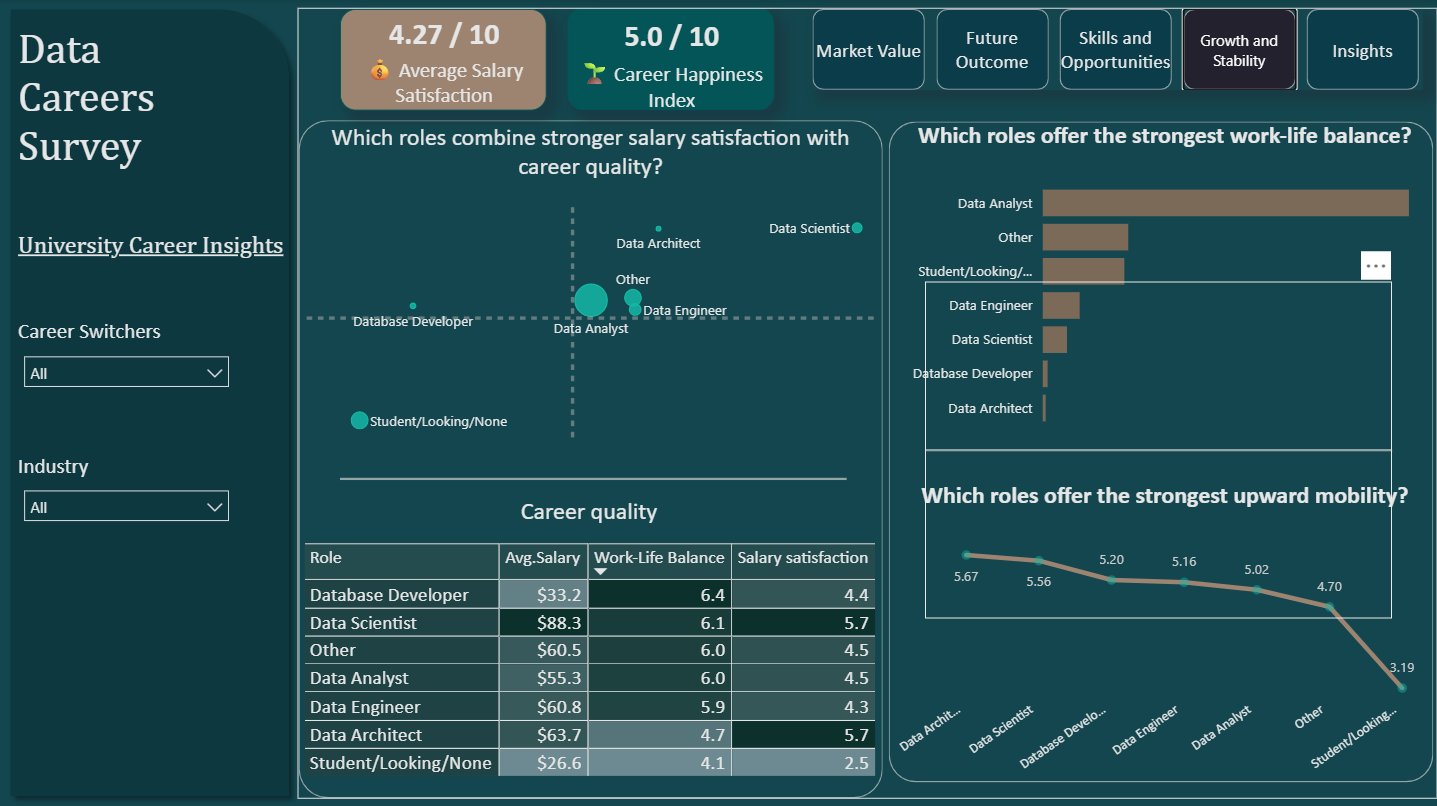

The page's visual inventory and layout, read from the dashboard file:
{"tool":"powerbi","page":{"name":"Page 1","canvas":[1280,720],"ordinal":0},"visuals":[{"type":"shape","box":[0,0,266.6,719],"z":0,"group":"g1"},{"type":"shape","box":[791.3,108.9,485,588.4],"z":0,"group":"g2"},{"type":"group","id":"g1","title":"panel","box":[0,0,283.5,719],"z":1000},{"type":"shape","box":[266.4,108.8,520.1,603.7],"z":1000,"group":"g2"},{"type":"slicer","title":"Career Switchers","fields":{"Values":["Data Professional Survey.Q2 - Did you switch careers into Data?"]},"box":[10.9,283.5,202.5,76.5],"z":1000,"group":"g1"},{"type":"barChart","title":"Which roles offer the strongest work-life balance?","fields":{"Category":["Data Professional Survey.Q1 - Which Title Best Fits your Current Role?.1"],"Y":["CountNonNull(Data Professional Survey.Q6 - How Happy are you in your Current Position with the following? (Work/Life Balance))"]},"box":[795.1,108.6,485,285.9],"z":2000,"group":"g2"},{"type":"textbox","box":[10.9,202.4,272.7,40.4],"z":2000,"group":"g1"},{"type":"scatterChart","title":"Which roles combine stronger salary satisfaction with career quality?","fields":{"Y":["Avg(Data Professional Survey.Q6 - How Happy are you in your Current Position with the following? (Salary))"],"Size":["CountNonNull(Data Professional Survey.Unique ID)"],"Category":["Data Professional Survey.Q1 - Which Title Best Fits your Current Role?.1"],"X":["Avg(Data Professional Survey.average salary)"]},"box":[267.8,110.2,515.2,285.9],"z":3000,"group":"g2"},{"type":"slicer","title":"Industry","fields":{"Values":["Data Professional Survey.Q4 - What Industry do you work in?.1"]},"box":[10.9,403.9,202.5,74.1],"z":3000,"group":"g1"},{"type":"group","id":"g2","title":"Group 4","box":[264.7,8.1,1015.3,704.4],"z":4000},{"type":"textbox","box":[10.9,20.5,166.5,166.5],"z":4000,"group":"g1"},{"type":"tableEx","title":"Career quality","fields":{"Values":["Data Professional Survey.Q1 - Which Title Best Fits your Current Role?.1","Avg(Data Professional Survey.average salary)","Avg(Data Professional Survey.Q6 - How Happy are you in your Current Position with the following? (Work/Life Balance))","Avg(Data Professional Survey.Q6 - How Happy are you in your Current Position with the following? (Salary))"]},"box":[264.7,443.4,519,254],"z":4000,"group":"g2"},{"type":"lineChart","title":"Which roles offer the strongest upward mobility?","fields":{"Category":["Data Professional Survey.Q1 - Which Title Best Fits your Current Role?.1"],"Y":["Avg(Data Professional Survey.Q6 - How Happy are you in your Current Position with the following? (Upward Mobility))"]},"box":[795.1,428.3,485,269],"z":5000,"group":"g2"},{"type":"textbox","title":"5.0 / 10","box":[505.2,8.1,184,91.4],"z":6000,"group":"g2"},{"type":"bookmarkNavigator","box":[723.9,8.4,544.1,72.4],"z":6000},{"type":"textbox","title":"4.27 / 10","box":[302.3,9.4,184,90],"z":7000,"group":"g2"},{"type":"shape","box":[302.9,277.5,451.2,300.4],"z":8000,"group":"g2"},{"type":"shape","box":[824,252.2,416.2,300.4],"z":9000,"group":"g2"}]}

Visuals, with their boxes in screenshot pixels (x1, y1, x2, y2), scaled from the page's 1280x720 canvas onto the 1437x806 screenshot:
shape: crop(0, 0, 299, 805)
shape: crop(888, 122, 1433, 781)
"panel" group: crop(0, 0, 318, 805)
shape: crop(299, 122, 883, 798)
"Career Switchers" slicer: crop(12, 317, 240, 403)
"Which roles offer the strongest work-life balance?" barChart: crop(893, 122, 1436, 442)
textbox: crop(12, 227, 318, 272)
"Which roles combine stronger salary satisfaction with career quality?" scatterChart: crop(301, 123, 879, 443)
"Industry" slicer: crop(12, 452, 240, 535)
"Group 4" group: crop(297, 9, 1436, 798)
textbox: crop(12, 23, 199, 209)
"Career quality" tableEx: crop(297, 496, 880, 781)
"Which roles offer the strongest upward mobility?" lineChart: crop(893, 479, 1436, 781)
"5.0 / 10" textbox: crop(567, 9, 774, 111)
bookmarkNavigator: crop(813, 9, 1424, 90)
"4.27 / 10" textbox: crop(339, 11, 546, 111)
shape: crop(340, 311, 847, 647)
shape: crop(925, 282, 1392, 619)
